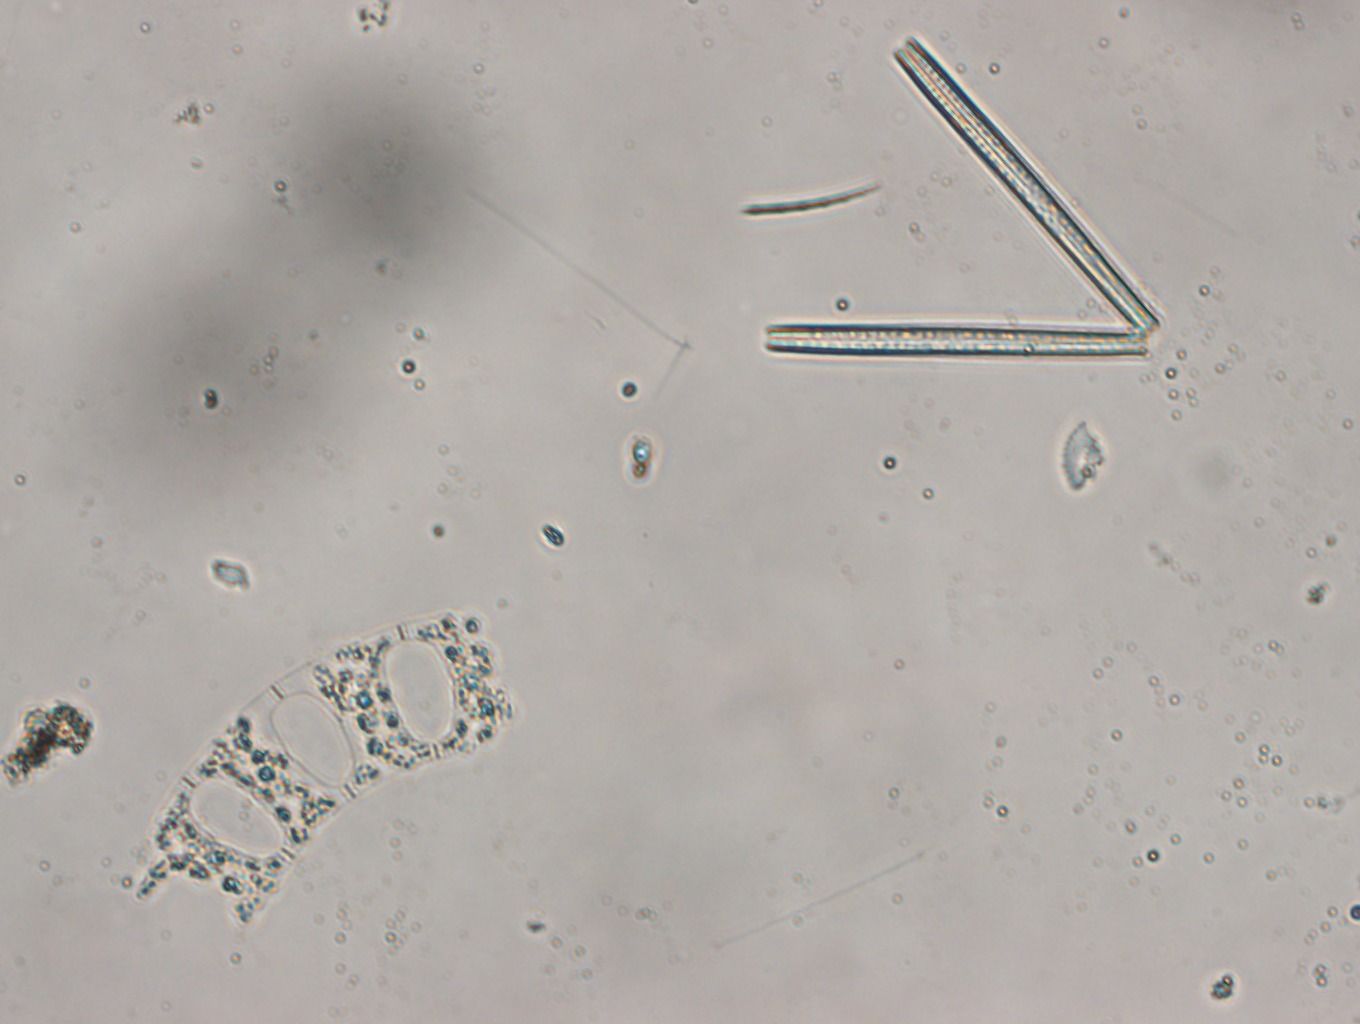eucampia: (134, 601, 528, 933)
thalassionema nitzschioides: (760, 31, 1168, 362)
